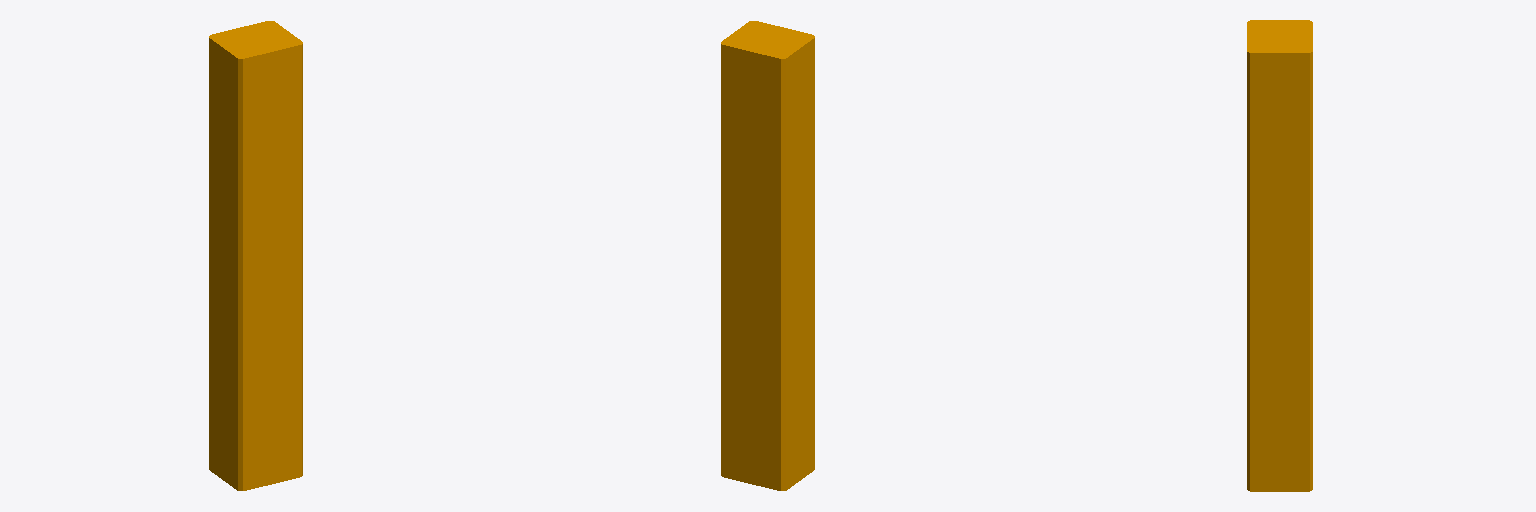
robot.urdf — factory_rectangular_peg_8mm_loose:
<?xml version="1.0"?>
<robot name="factory_rectangular_peg_8mm_loose">
    <link name="factory_rectangular_peg_8mm_loose">
        <visual>
            <geometry>
                <mesh filename="../mesh/factory_insertion/factory_rectangular_peg_8mm_loose_subdiv_3x.obj"/>
            </geometry>
        </visual>
        <collision>
            <geometry>
                <mesh filename="../mesh/factory_insertion/factory_rectangular_peg_8mm_loose_subdiv_3x.obj"/>
            </geometry>
            <sdf resolution="256"/>
        </collision>
    </link>
</robot>

--- Facts derived from the render (not from the file) ---
Views: 3 orthographic renders of the robot side by side, from view 1: azimuth 30°, elevation 25°; view 2: azimuth 150°, elevation 25°; view 3: azimuth 270°, elevation 25°.
Model factory_rectangular_peg_8mm_loose with 1 links and 0 joints (none), rooted at factory_rectangular_peg_8mm_loose, posed every joint at zero.
Visible links, largest first — view 1: factory_rectangular_peg_8mm_loose; view 2: factory_rectangular_peg_8mm_loose; view 3: factory_rectangular_peg_8mm_loose.
Boxes of the visible links, left/top/right/bottom form: factory_rectangular_peg_8mm_loose: left=209, top=21, right=302, bottom=490; factory_rectangular_peg_8mm_loose: left=721, top=21, right=814, bottom=490; factory_rectangular_peg_8mm_loose: left=1247, top=20, right=1312, bottom=491.
Bounding box of the posed robot: 0.008 × 0.0069 × 0.05 m (x, y, z).
1 mesh visuals loaded from 1 distinct referenced files (1 OBJ).